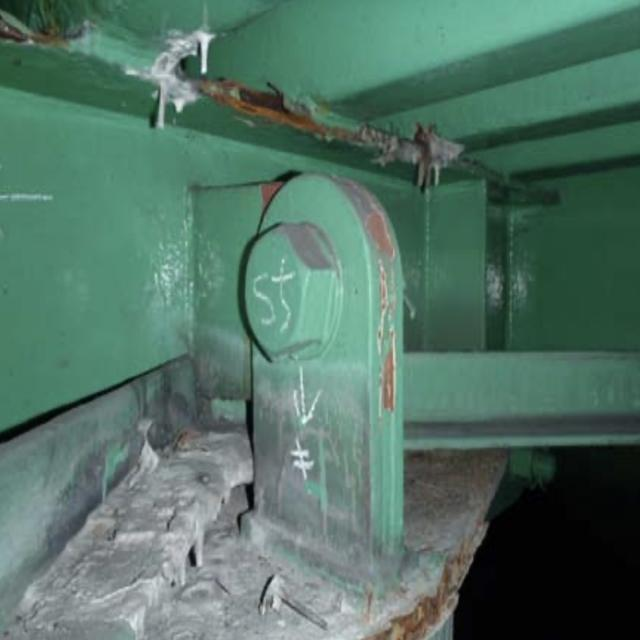corrosion: (201, 66, 446, 180), (363, 217, 430, 453)
